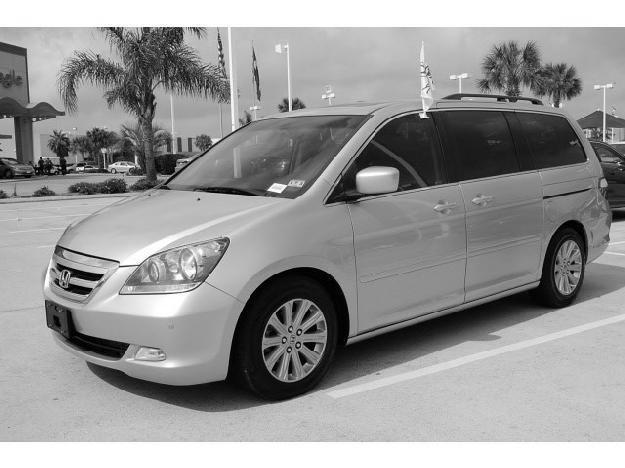car: (43, 93, 612, 401)
